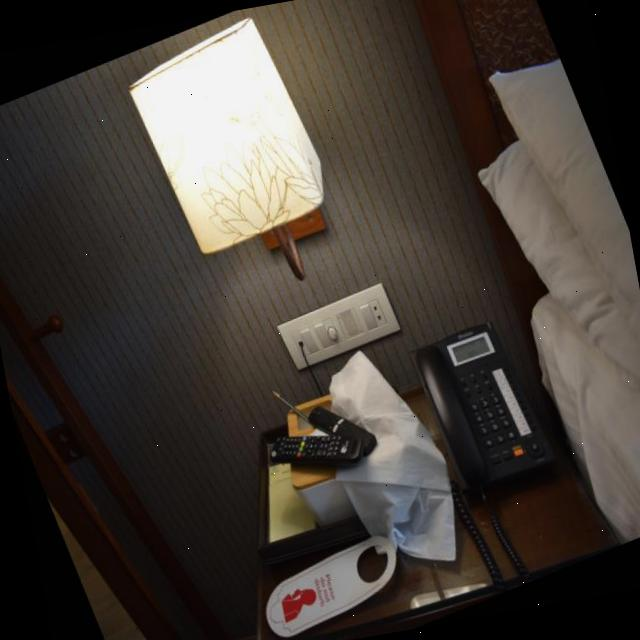lamp: (131, 15, 329, 278)
mess: (267, 381, 438, 530)
messy_table: (259, 356, 623, 640)
